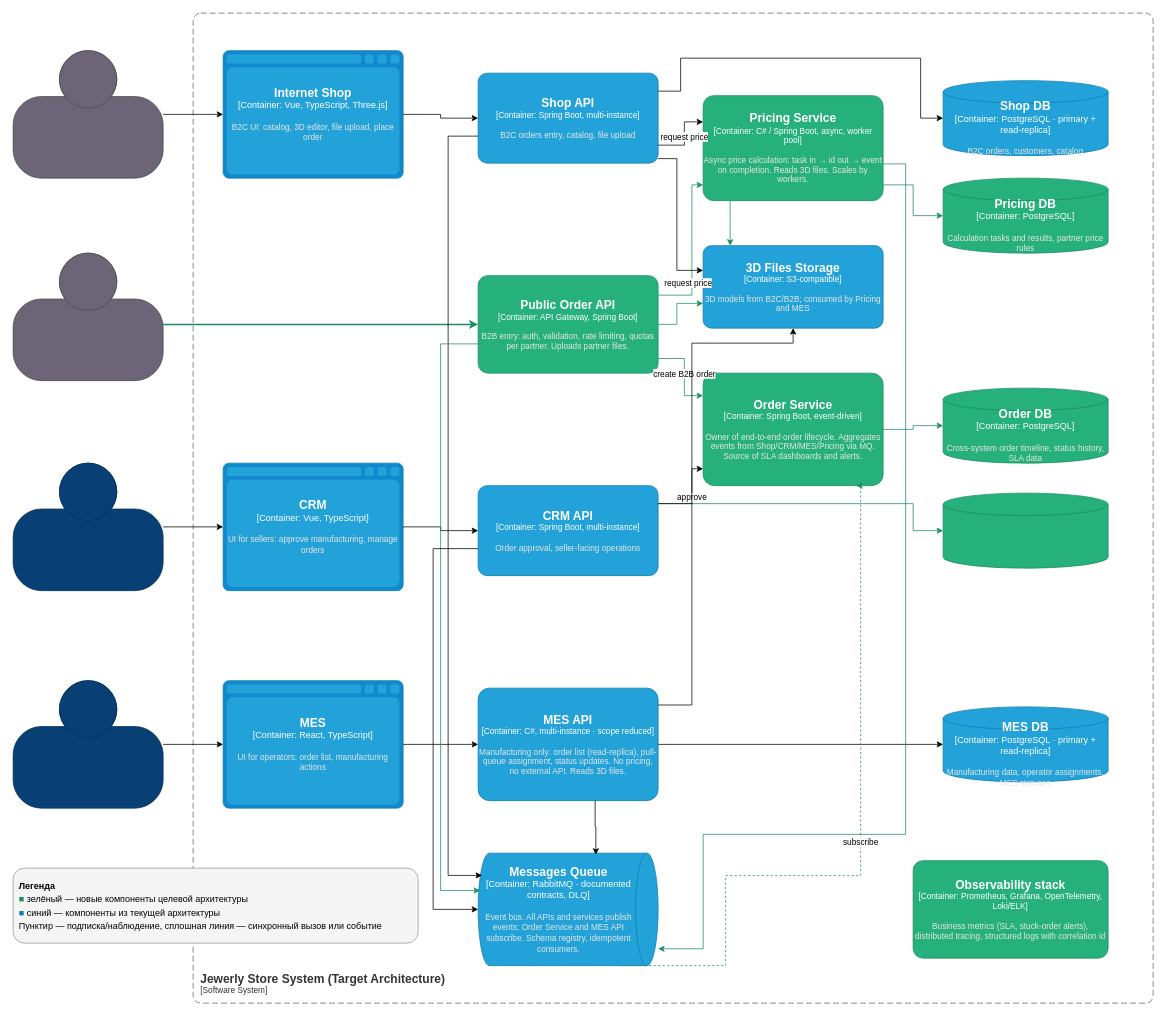
The diagram is 1166 pixels wide and 1016 high, and some of its shapes have lost their labels. The shapes that lost their labels are listed below. From the top down, each one's centre as x and y in pixels, then its label:
At [87,114]: "Customer [Person] Places orders, uploads 3D models".
At [87,316]: "API user (B2B partner) [Person] Submits orders via partner API".
At [87,526]: "Seller [Person] Operates with orders, confirms manufacturing".
At [1025,530]: "CRM DB [Container: PostgreSQL] CRM-owned data, no longer shares Shop DB".
At [87,744]: "Operator [Person] Takes orders in work, manufactures jewelry".
